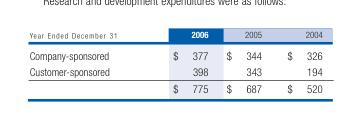table: (28, 28, 321, 93)
table column: (28, 28, 144, 93), (144, 28, 216, 93), (216, 28, 273, 93), (273, 28, 321, 93)
table column header: (28, 28, 321, 44)
table row: (28, 44, 321, 63), (28, 28, 321, 44), (28, 63, 321, 79), (28, 79, 321, 93)
